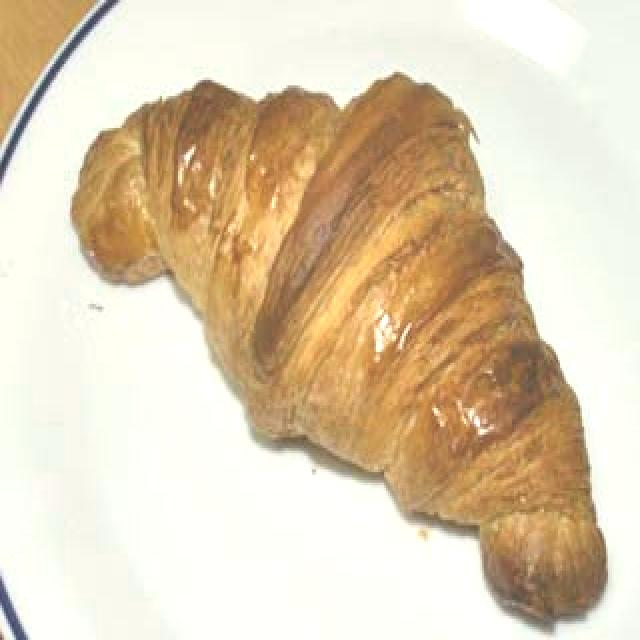Croissant: (59, 66, 610, 625)
